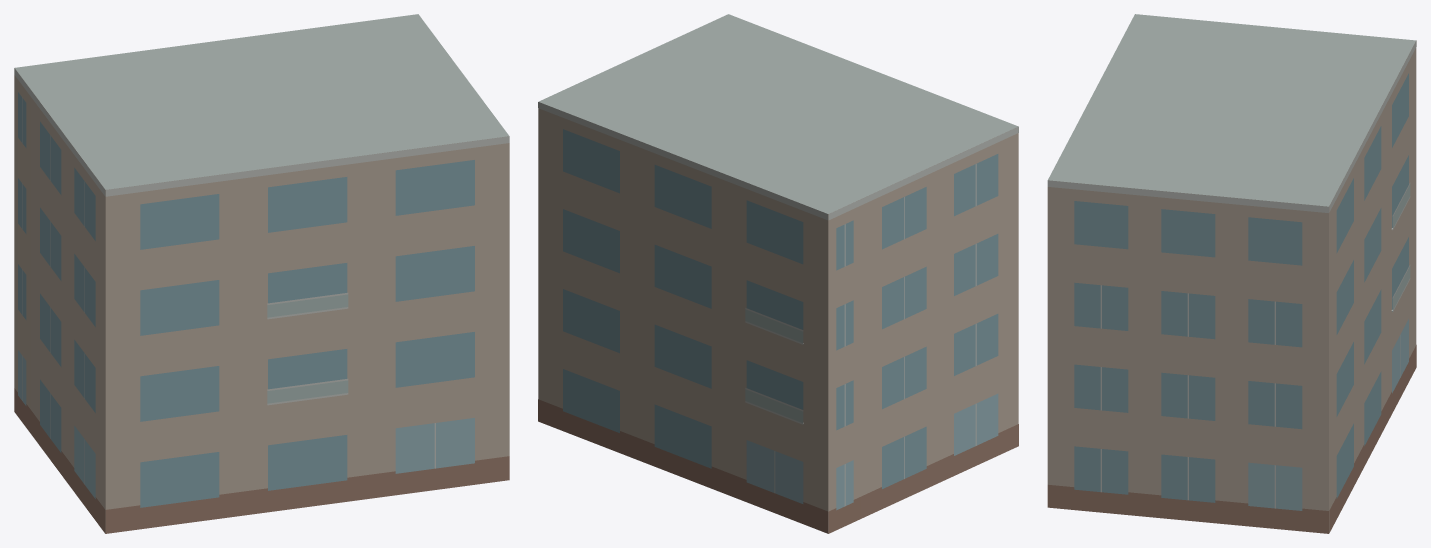
The model's file is residential-8461591c-9369-429d-93ff-881bfe3f2ebb.glb.
3 views of the same model, side by side, from view 1: azimuth 30°, elevation 25°; view 2: azimuth 150°, elevation 25°; view 3: azimuth 270°, elevation 25° (orthographic). The views are drawn at different scales.
Visible parts, largest first — view 1: residential-8461591c-9369-429d-93ff-881bfe3f2ebb.tmp; view 2: residential-8461591c-9369-429d-93ff-881bfe3f2ebb.tmp; view 3: residential-8461591c-9369-429d-93ff-881bfe3f2ebb.tmp.
Part boxes in pixels (<box>): residential-8461591c-9369-429d-93ff-881bfe3f2ebb.tmp: <box>14,14,509,533</box>; residential-8461591c-9369-429d-93ff-881bfe3f2ebb.tmp: <box>538,14,1018,533</box>; residential-8461591c-9369-429d-93ff-881bfe3f2ebb.tmp: <box>1047,14,1416,533</box>.
Size of the model in its own units: 15.41 by 12.2 by 12.47.
